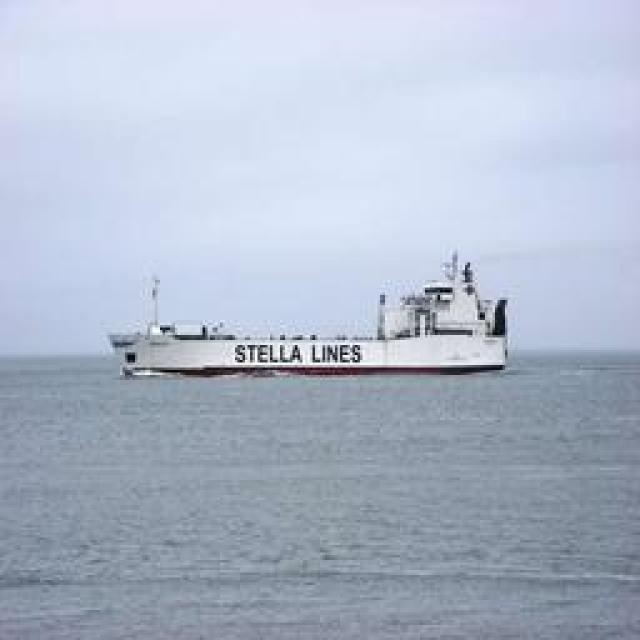CIV_Ship: (101, 250, 511, 380)
